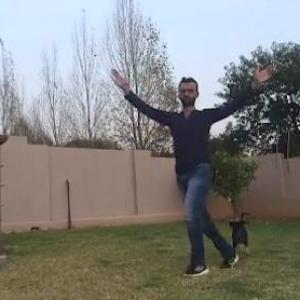takeoff: (123, 67, 275, 277)
